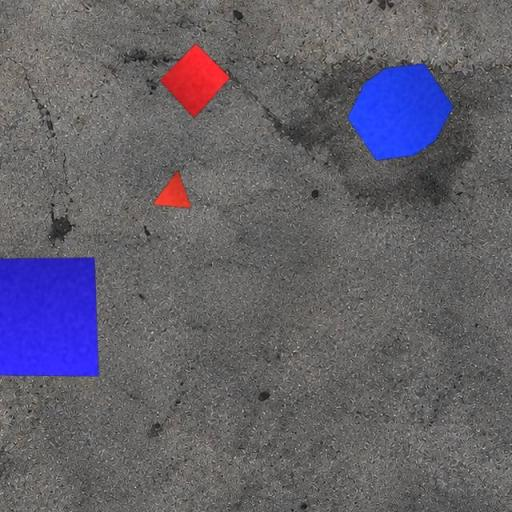BLUE_SQUARE: (0, 256, 99, 378)
RED_SQUARE: (159, 42, 231, 120)
